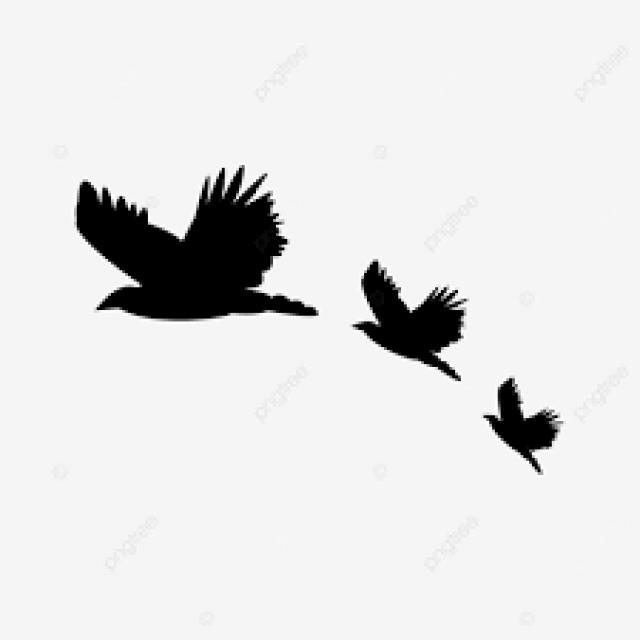bird: (26, 102, 327, 387), (328, 185, 486, 404), (465, 354, 605, 499)
